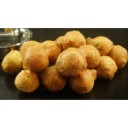bonda: (57, 49, 88, 75), (43, 67, 67, 92), (23, 48, 48, 70), (95, 56, 118, 77), (14, 71, 38, 91), (88, 34, 111, 54), (3, 49, 22, 73), (65, 29, 86, 47)
